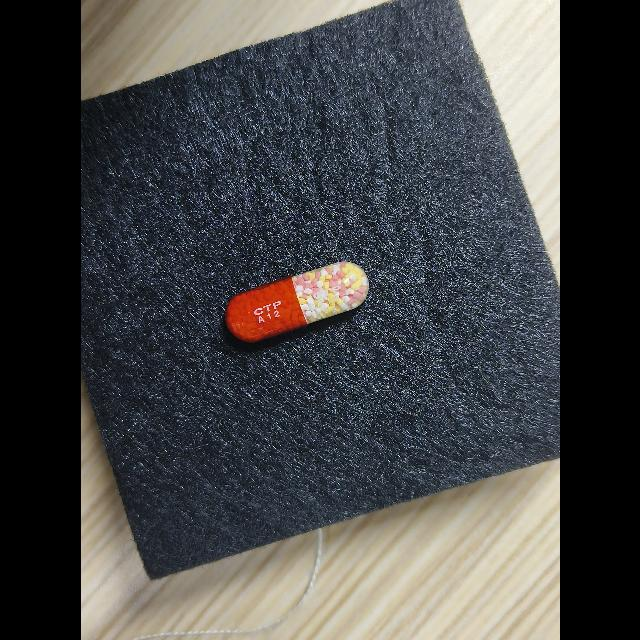Intact Capsule: (224, 262, 368, 342)
